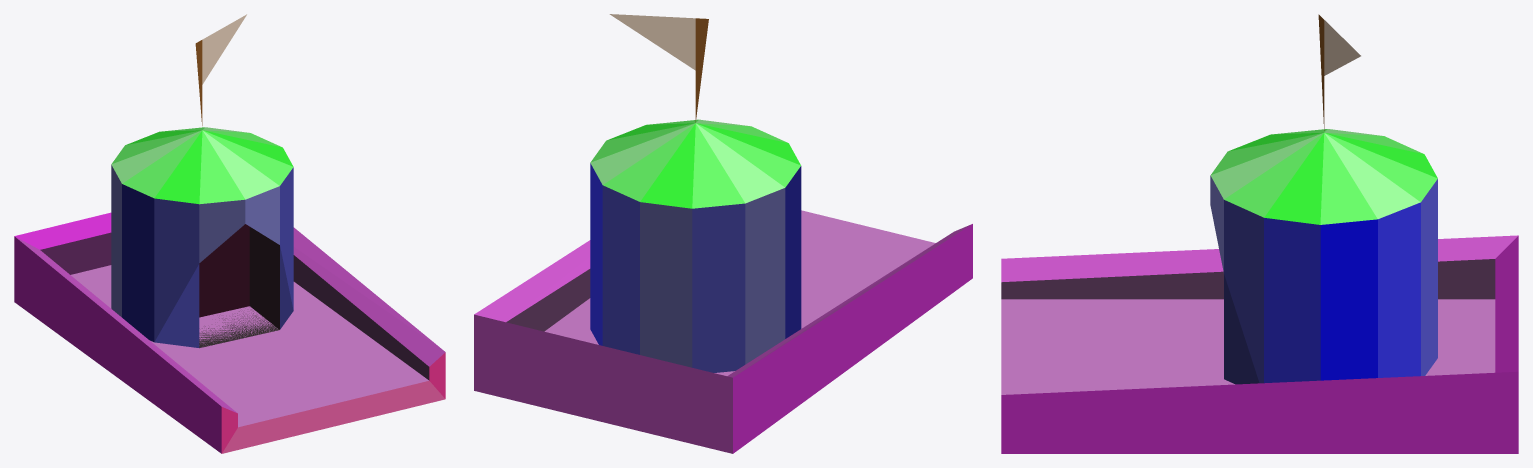
The picture shows the model from 3 angles, left to right: view 1: azimuth 30°, elevation 25°; view 2: azimuth 150°, elevation 25°; view 3: azimuth 270°, elevation 25°; orthographic projection. The views are drawn at different scales.
Parts seen in each view (by area): view 1: SketchUp (×8), _2d; view 2: SketchUp (×7), _2d (×2); view 3: SketchUp (×6), _2d.
Part boxes in pixels (<box>): SketchUp (×8): <box>14,127,445,453</box>; _2d: <box>202,14,246,84</box>; SketchUp (×7): <box>474,119,972,453</box>; _2d (×2): <box>609,14,708,122</box>; SketchUp (×6): <box>1001,129,1518,453</box>; _2d: <box>1324,20,1360,75</box>.
Size of the model in its own units: 375 by 602 by 468.
